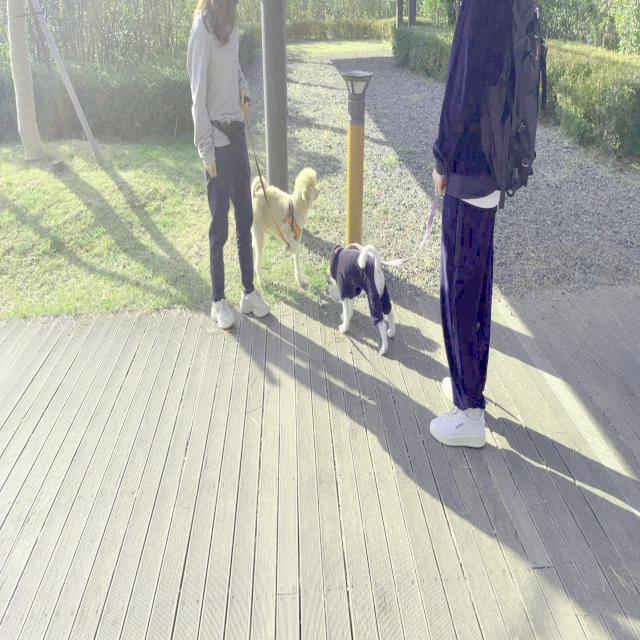Leashed_Dog: (327, 173, 483, 356), (231, 88, 321, 290)
